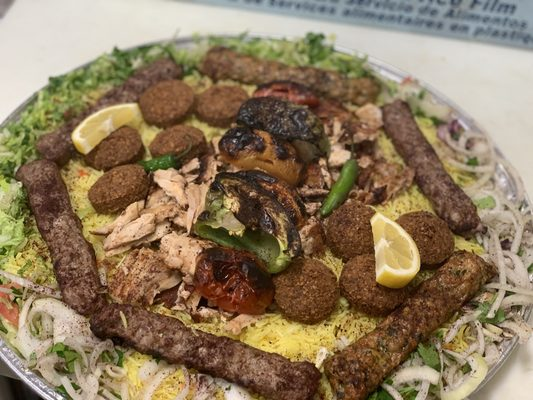sandwich: (1, 24, 533, 400)
